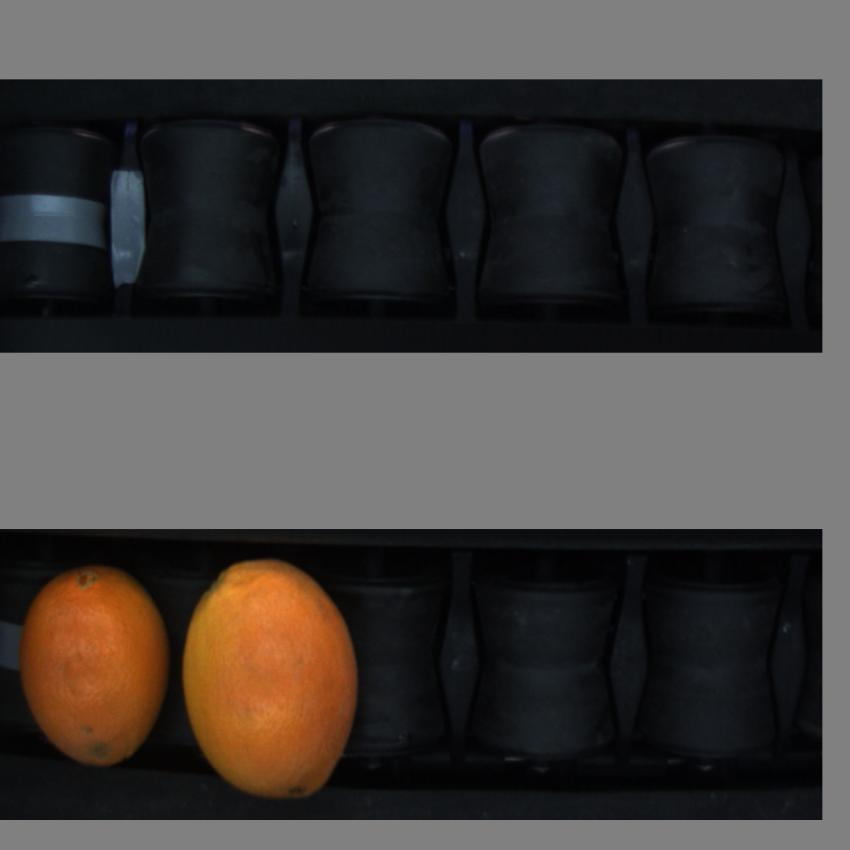Buen estado: (179, 554, 366, 812), (16, 559, 176, 776)
